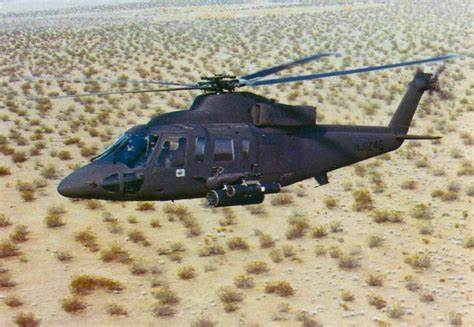Aeronef_militaire: (10, 46, 469, 215)
